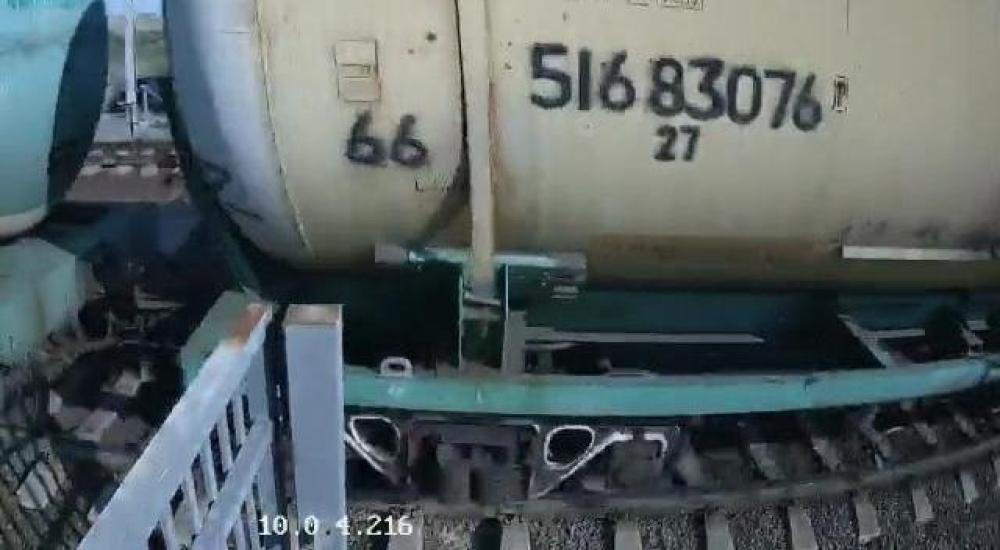Wagon-number: (524, 38, 825, 135)
